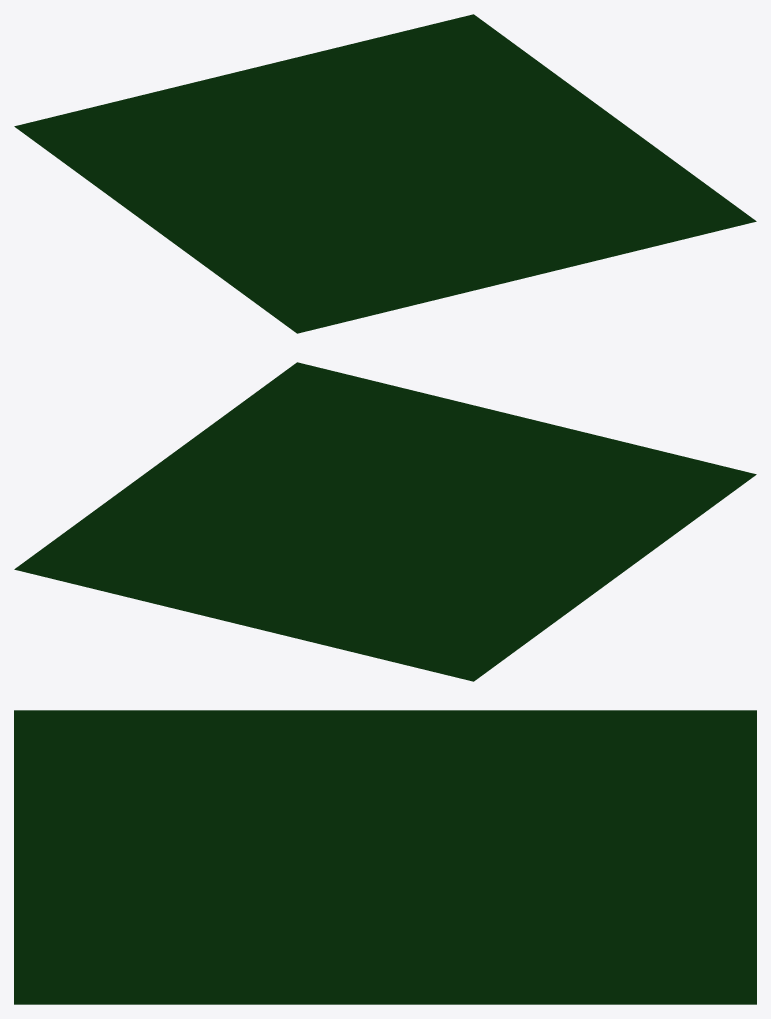
Rendered from plane001_ground_0.003_lev1.glb.
3 renders of one model, top to bottom at view 1: azimuth 30°, elevation 25°; view 2: azimuth 150°, elevation 25°; view 3: azimuth 270°, elevation 25°, orthographic. The views are drawn at different scales.
Parts seen in each view (by area): view 1: plane001_ground_0.003_lev1; view 2: plane001_ground_0.003_lev1; view 3: plane001_ground_0.003_lev1.
Boxes of the visible parts, <box> form: plane001_ground_0.003_lev1: <box>14,14,756,333</box>; plane001_ground_0.003_lev1: <box>14,362,756,681</box>; plane001_ground_0.003_lev1: <box>14,710,756,1004</box>.
Size of the model in its own units: 40.85 by 1.79e-06 by 43.59.
